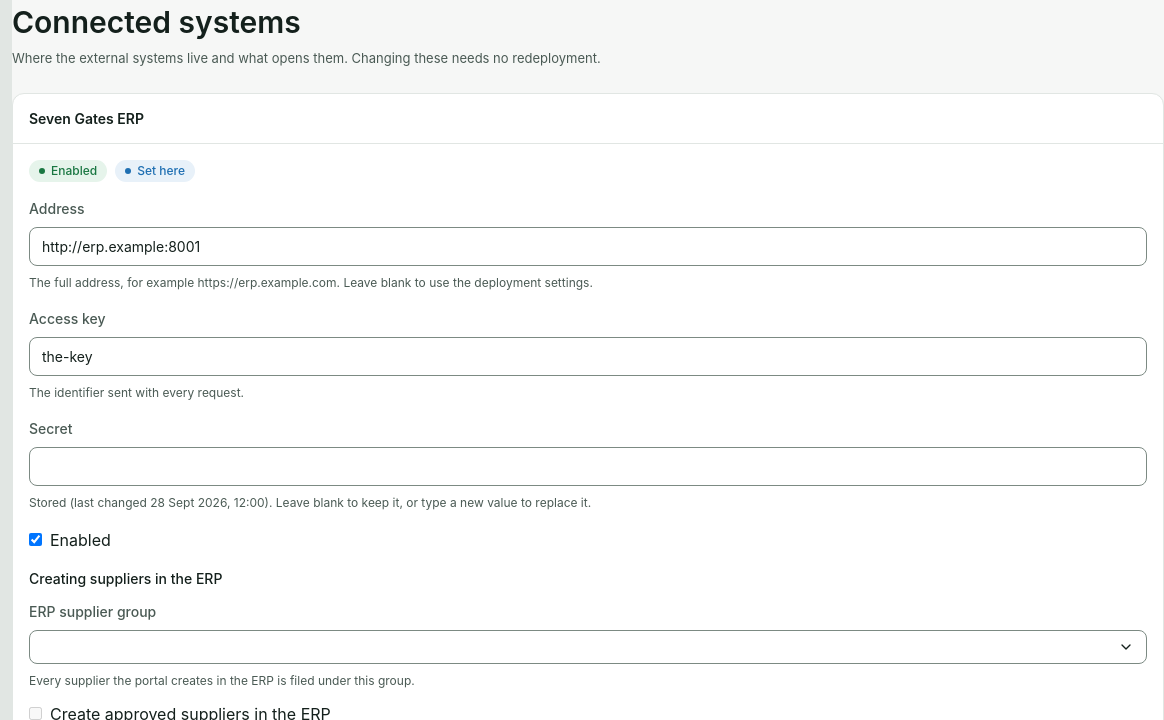
Test case: IntegrationsPage › will not turn on creating suppliers in the ERP before a group is chosen
Check: the switch labelled "Create approved suppliers in the ERP" is disabled, box [29,707,42,719]
Check: the switch labelled "Create approved suppliers in the ERP" is not checked, box [29,707,42,719]
Click the dropdown named "ERP supplier group": (1126, 646) [29,630,1147,664]
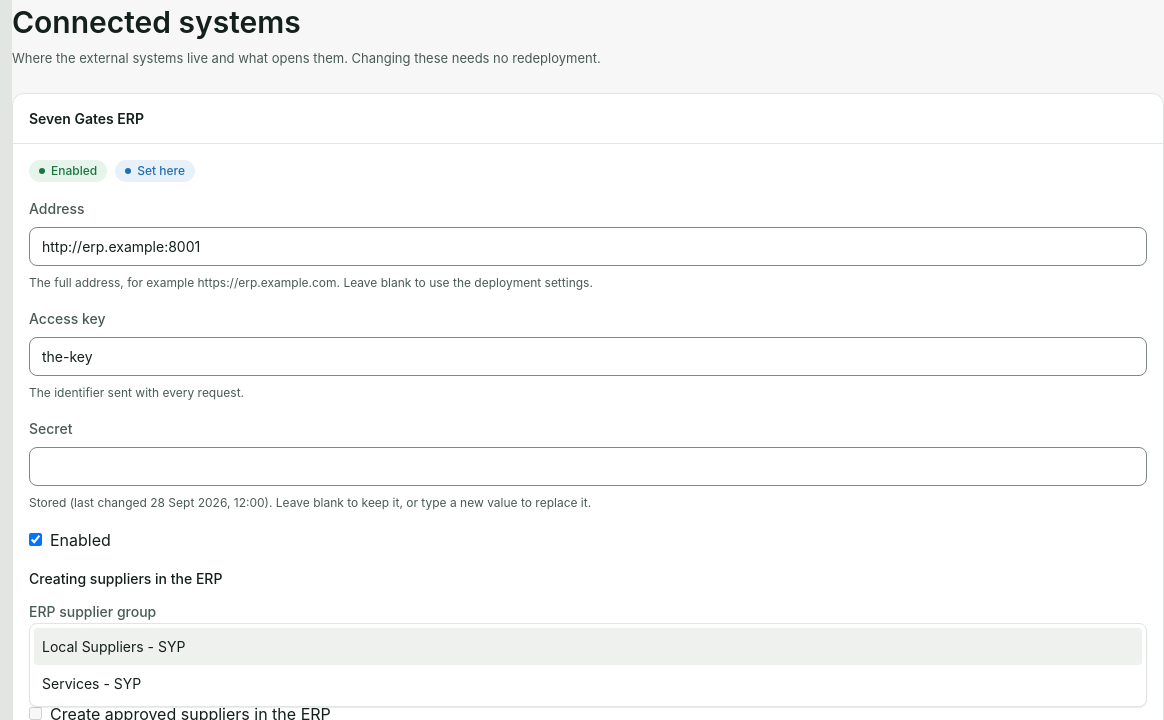
Click the option "Services - SYP": (92, 684) [42,675,141,692]
(page scrolled)
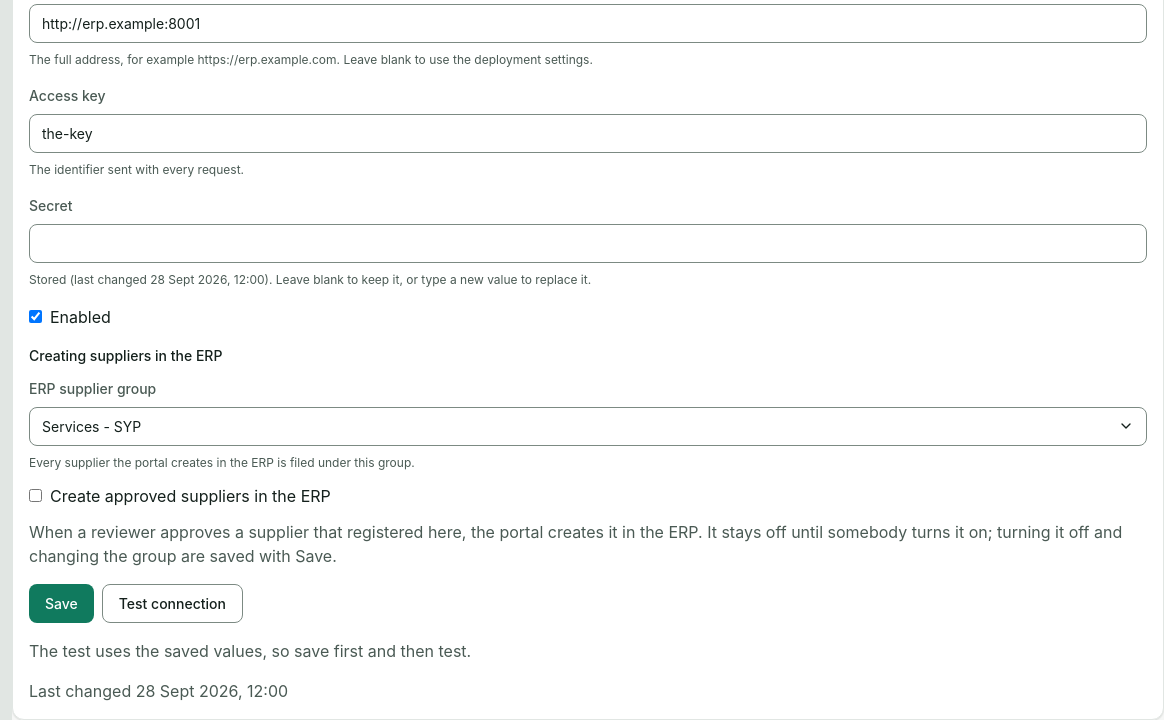
Check: the switch labelled "Create approved suppliers in the ERP" is enabled, box [29,489,42,502]
